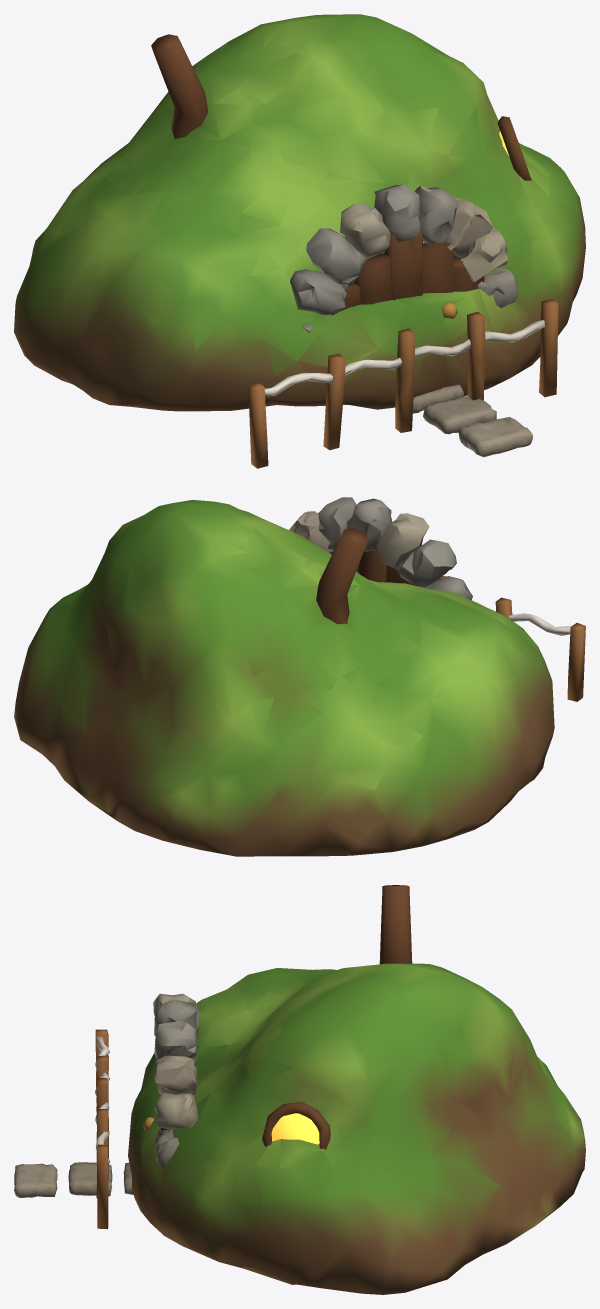
File: glade_warren_burrow_c_lod1.glb
3 views of the same model, one above another, from view 1: azimuth 30°, elevation 25°; view 2: azimuth 150°, elevation 25°; view 3: azimuth 270°, elevation 25° (orthographic). The views are drawn at different scales.
Visible parts, largest first — view 1: glade_warren_burrow_c.001; view 2: glade_warren_burrow_c.001; view 3: glade_warren_burrow_c.001.
Boxes of the visible parts, x1,y1,x2,y2 form: glade_warren_burrow_c.001: (14,14,585,468); glade_warren_burrow_c.001: (14,497,585,856); glade_warren_burrow_c.001: (14,885,585,1294).
Size of the model in its own units: 7.48 by 4 by 8.18.
